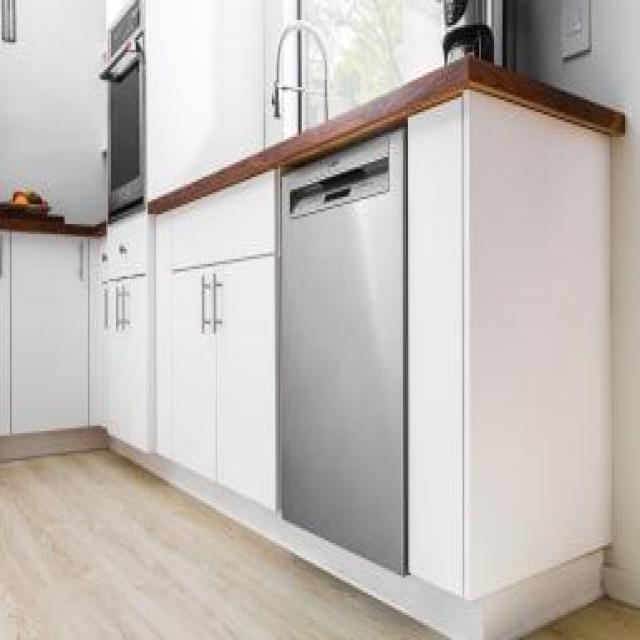dishwasher: (270, 107, 418, 590)
